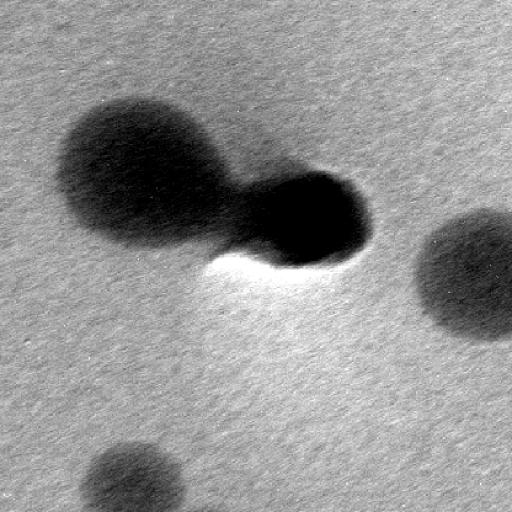Nanoparticles: (56, 90, 232, 255), (221, 162, 373, 275), (409, 204, 512, 348), (72, 434, 190, 511)
